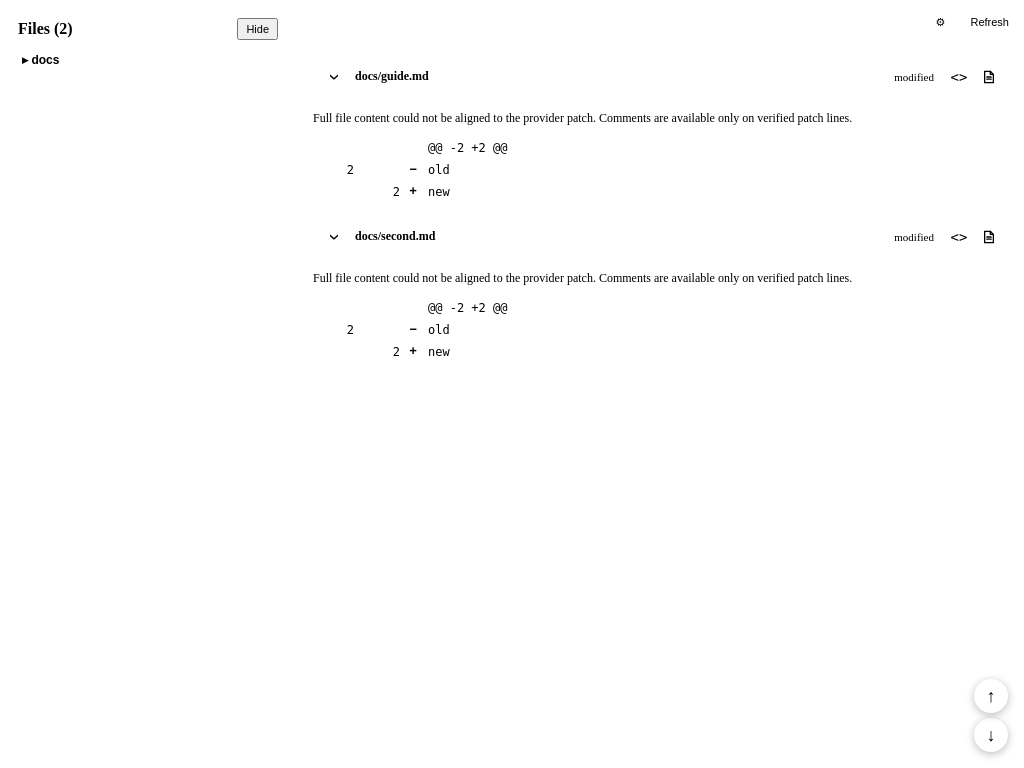
Test: ChangesPanel › keeps Markdown display choices on each file header independently
Click the button named "Display the rich diff" in the row of "docs/guide.md". click: (989, 76)
box: [974,63,1004,90]
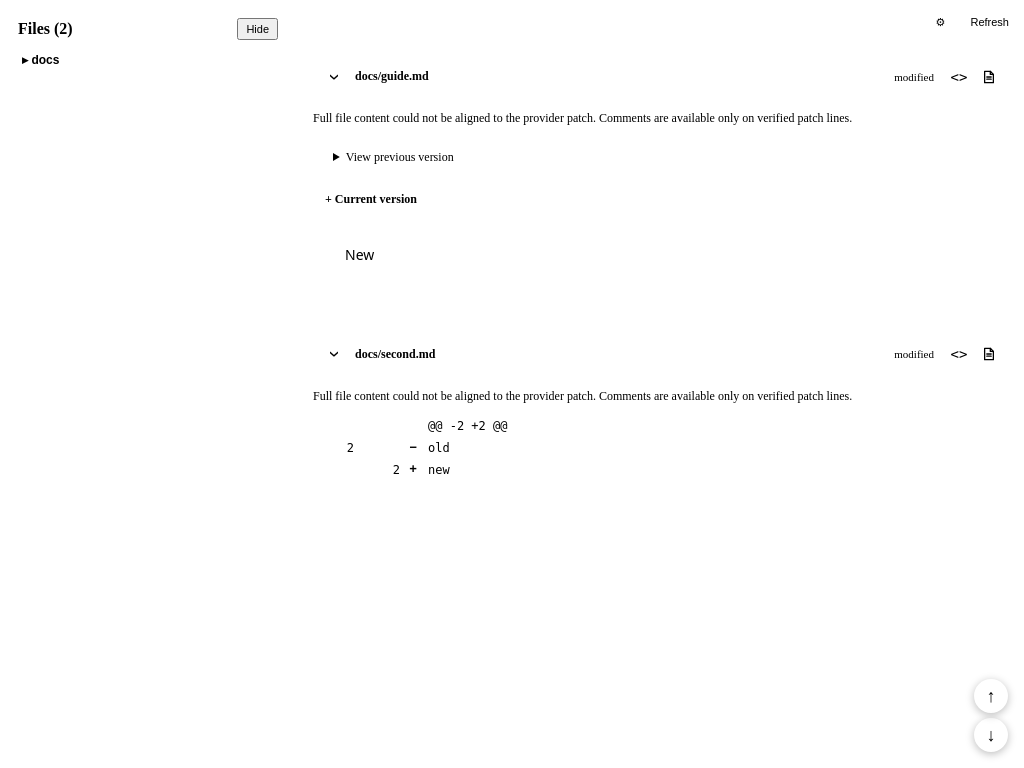
Expected: the element with class "rich-diff" is shown, [325,150,454,264]
